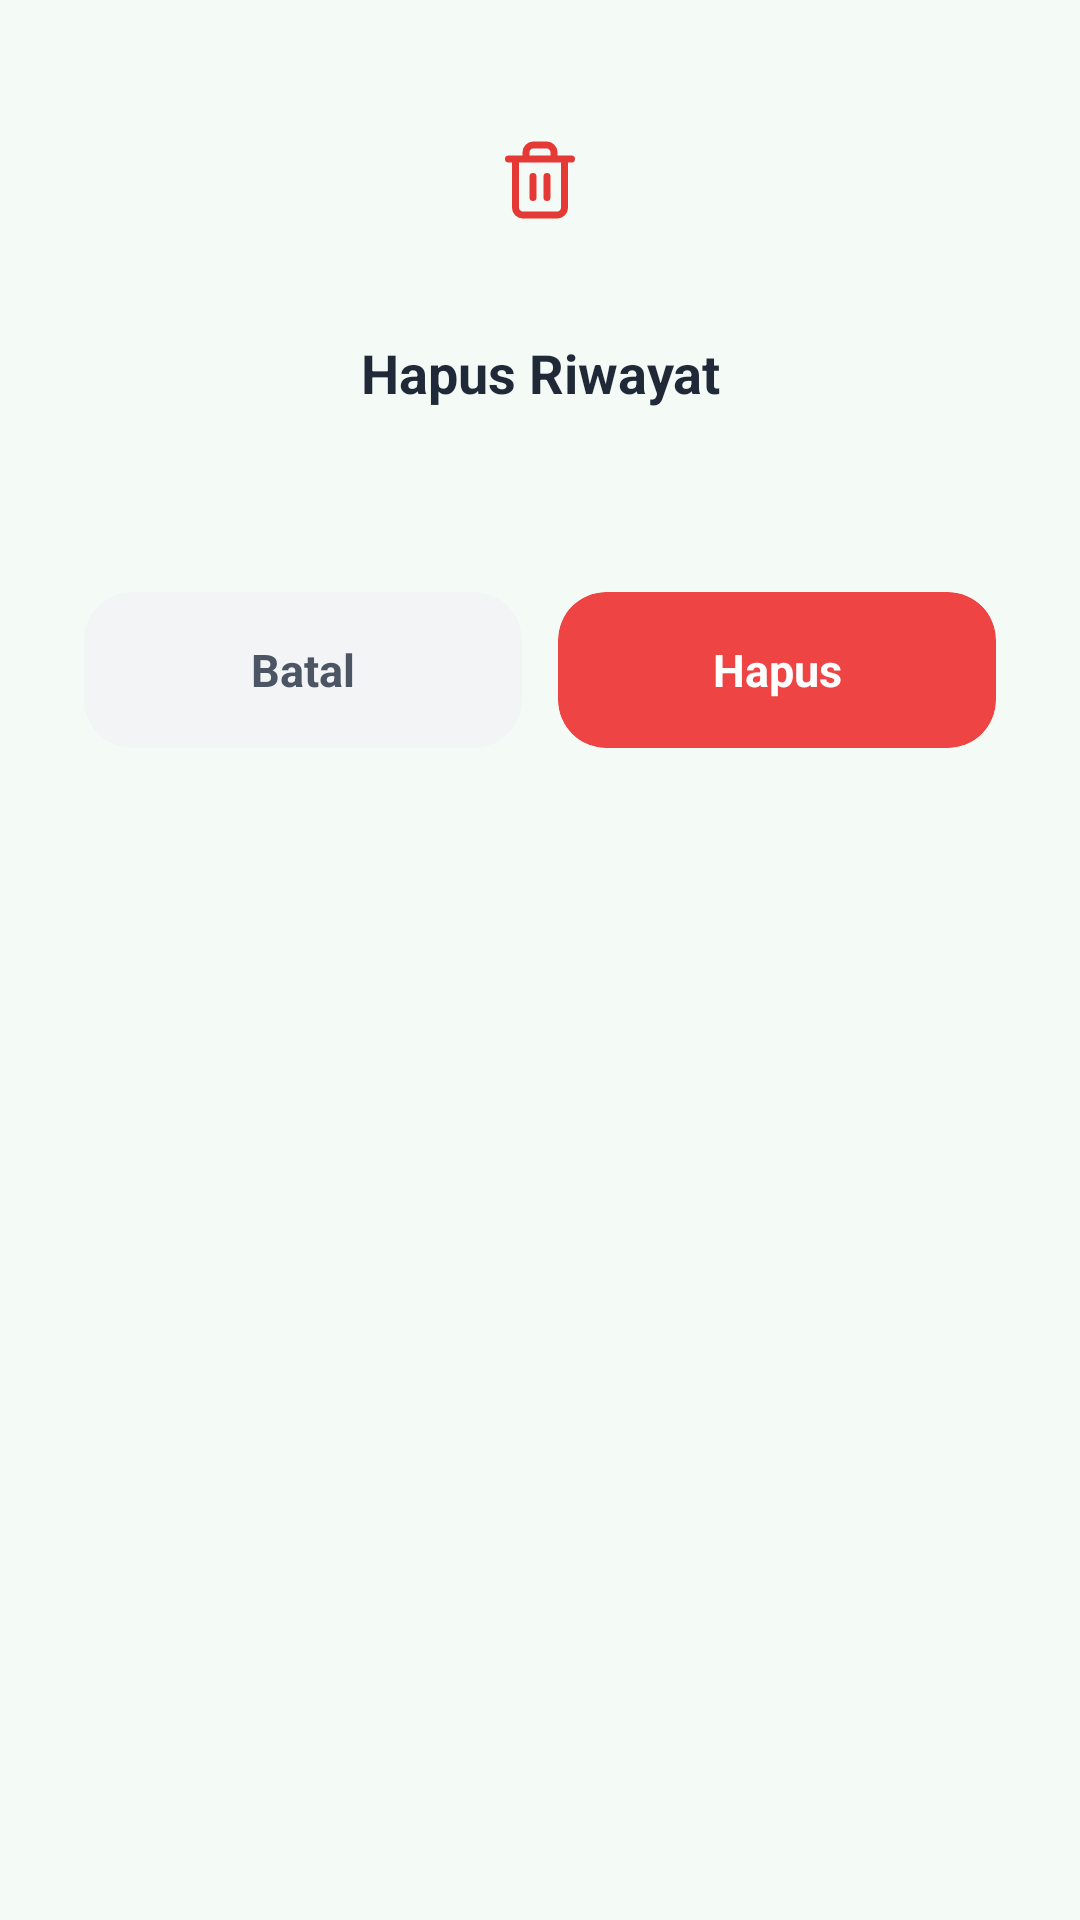

Icon click points for this 1080×1920 phone screenshot, format (x=x, y=y):
delete: (x=540, y=180)
